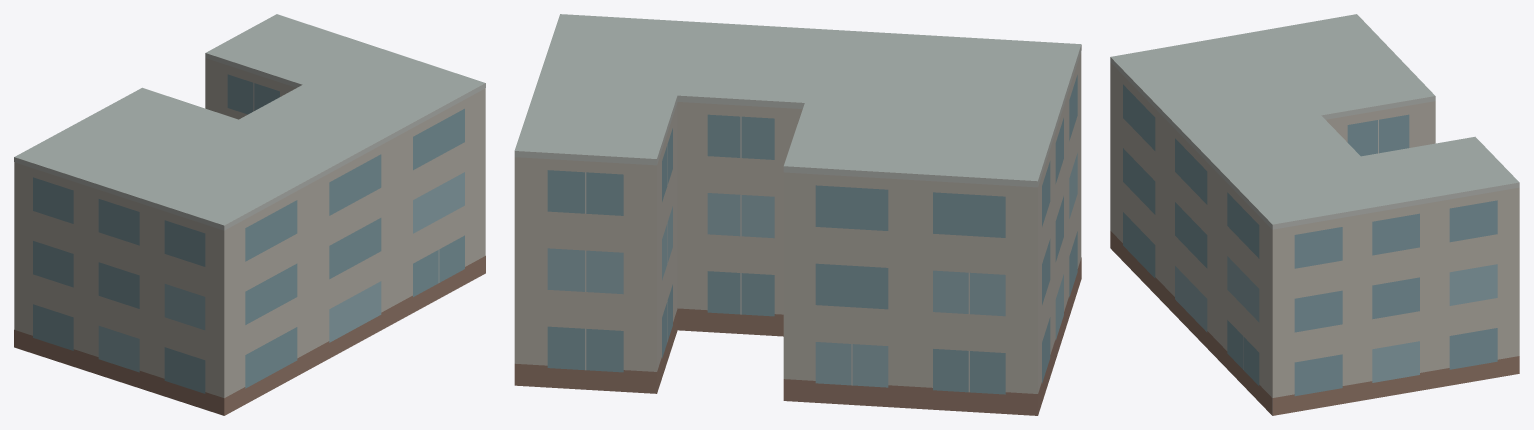
The model's file is survey-upis-32594722.glb.
The picture shows the model from 3 angles, left to right: view 1: azimuth 30°, elevation 25°; view 2: azimuth 150°, elevation 25°; view 3: azimuth 270°, elevation 25°; orthographic projection. The views are drawn at different scales.
Parts seen in each view (by area): view 1: survey-upis-32594722.tmp; view 2: survey-upis-32594722.tmp; view 3: survey-upis-32594722.tmp.
Part boxes in pixels (box(x1,y1,x2,y2)): survey-upis-32594722.tmp: box(14, 14, 485, 415); survey-upis-32594722.tmp: box(514, 14, 1081, 415); survey-upis-32594722.tmp: box(1110, 14, 1519, 415).
Size of the model in its own units: 21.62 by 9.15 by 17.76.
